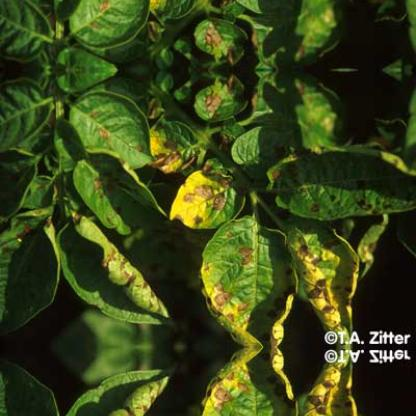Early-Blight: (8, 70, 414, 328), (8, 0, 414, 67)
